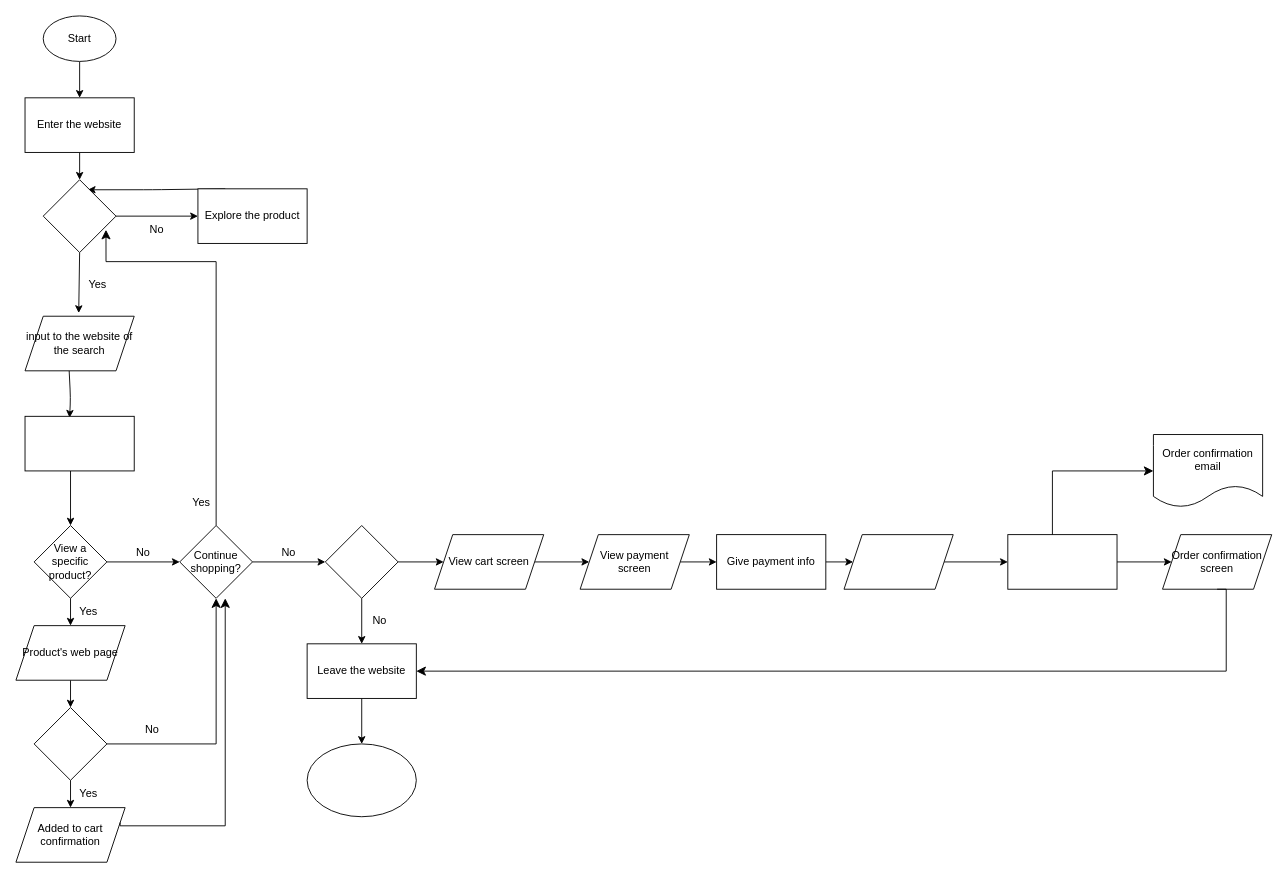
Image size: 1288x878. Some labels were removed from this diagram. The centre of each missing label's shape, as x and y in pixels:
Add to cart?: (x=70, y=743)
Checkout?: (x=361, y=561)
End: (x=361, y=780)
Look over the products: (x=79, y=443)
Make a payment: (x=1062, y=561)
Payment info: (x=898, y=561)
Search for product?: (x=79, y=216)
